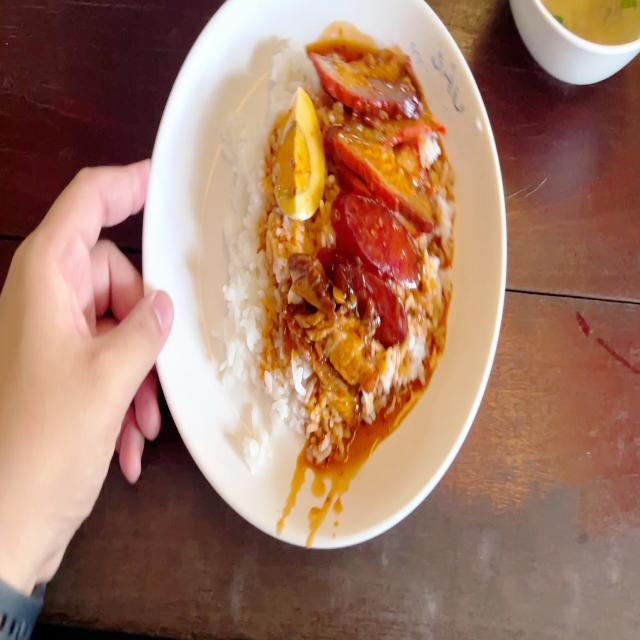boiled_egg: (278, 93, 321, 211)
chainese_sausage: (332, 198, 416, 332)
crispy_pork: (286, 255, 328, 374), (322, 341, 381, 415)
red_pork: (323, 44, 445, 204)
red_pork_and_crispy_pork: (227, 42, 447, 448)
rice: (225, 106, 278, 405), (247, 358, 304, 464), (264, 45, 311, 95)
